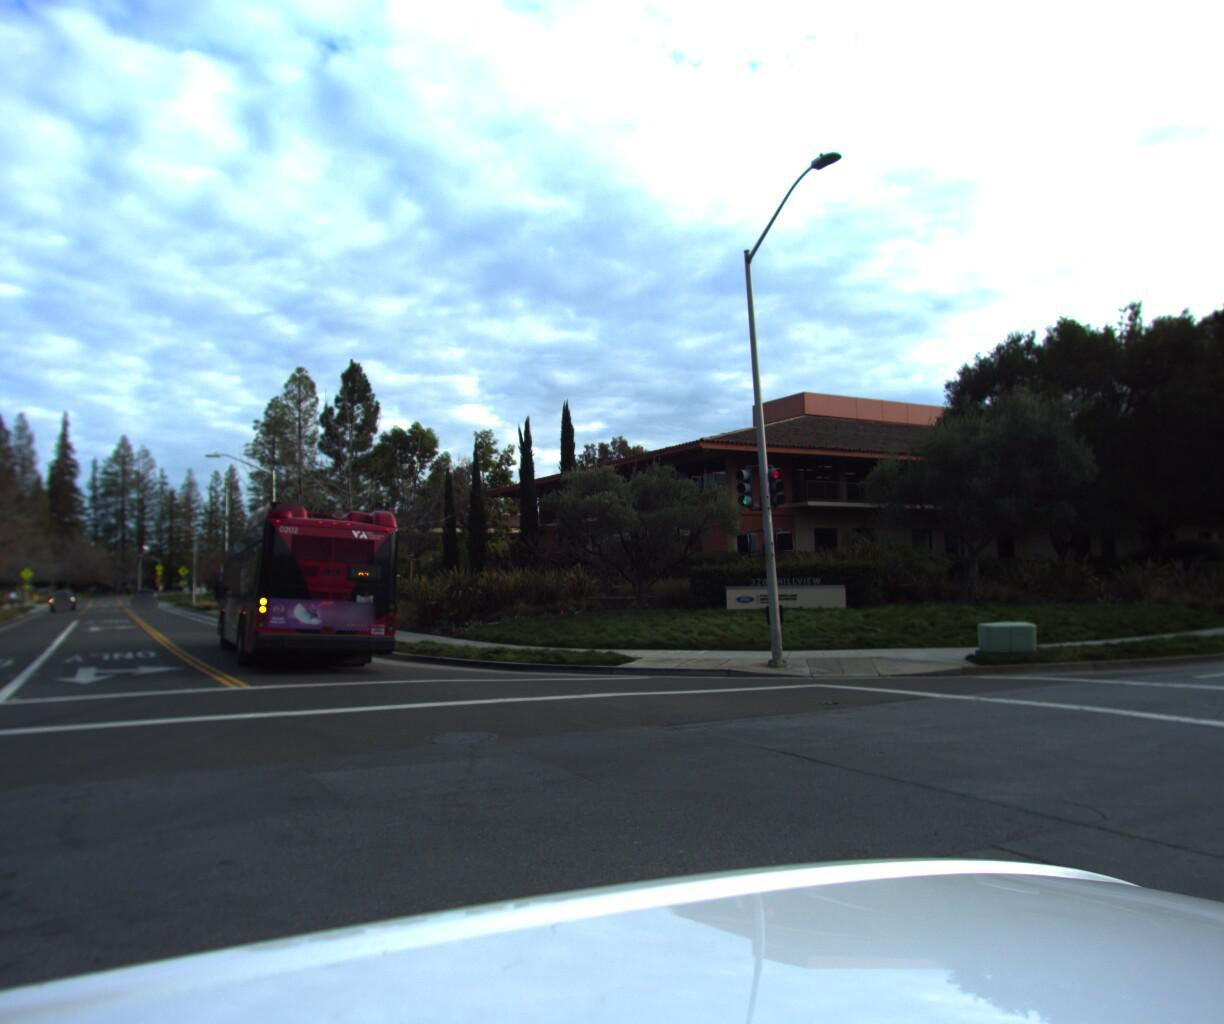bus: (212, 491, 415, 676)
